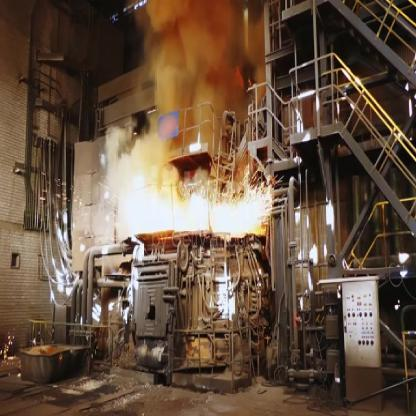fire: (121, 169, 273, 236)
smoke: (104, 0, 272, 187)
